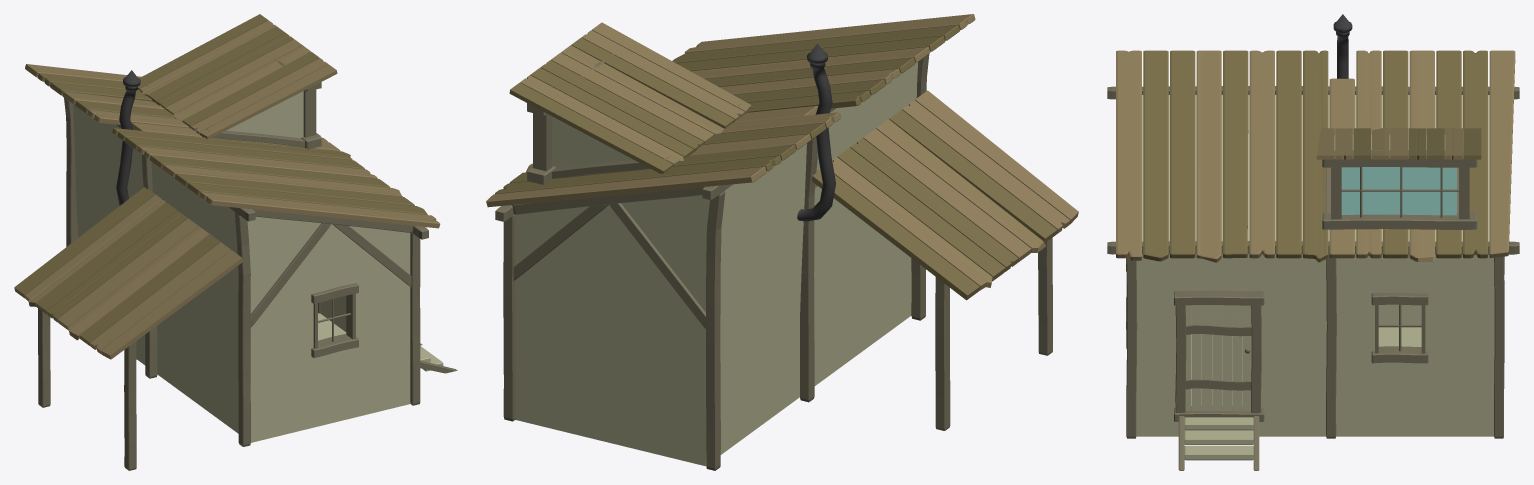
File: House2.1KapalSonHali.fbx
3 renders of one model, left to right at view 1: azimuth 30°, elevation 25°; view 2: azimuth 150°, elevation 25°; view 3: azimuth 270°, elevation 25°, orthographic. The views are drawn at different scales.
Parts seen in each view (by area): view 1: Plane.015; view 2: Plane.015; view 3: Plane.015.
Boxes of the visible parts, box(x1,y1,x2,y2) form: Plane.015: box(14, 14, 457, 470); Plane.015: box(486, 14, 1078, 470); Plane.015: box(1107, 14, 1519, 470).
Size of the model in its own units: 1146 by 895 by 1023.
